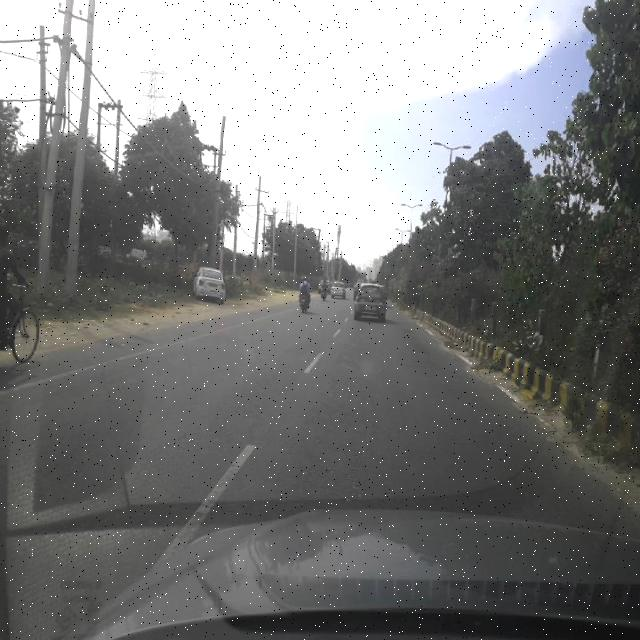D20: (0, 343, 606, 520)
